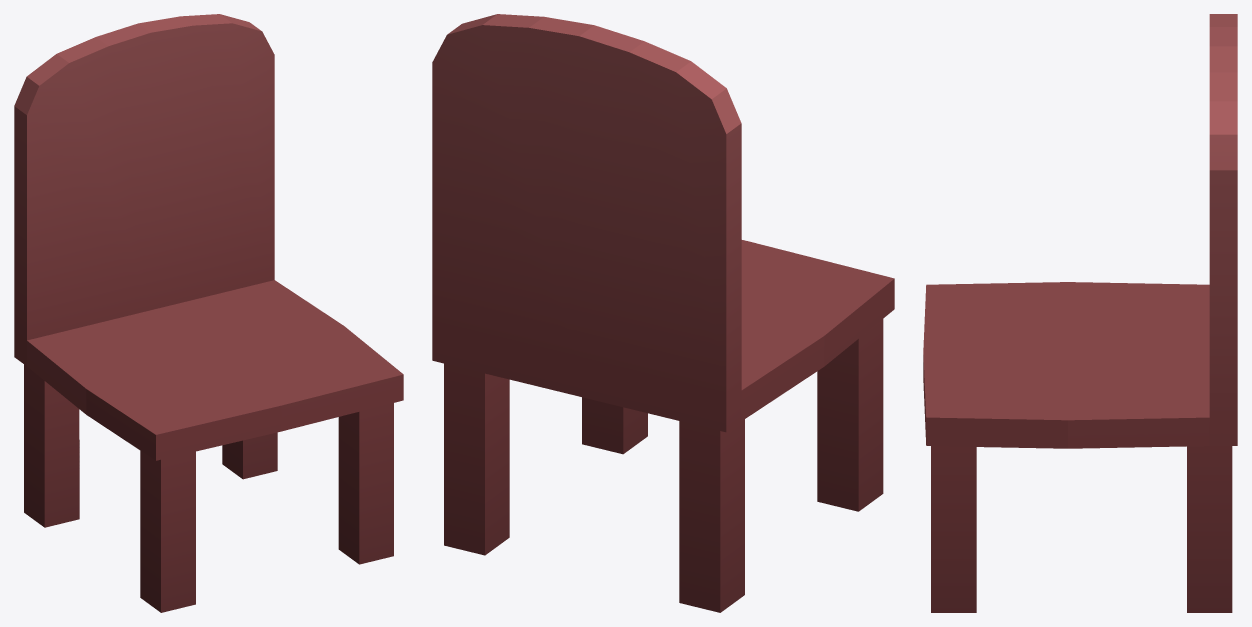
The model's file is BeachChair2.fbx.
The picture shows the model from 3 angles, left to right: view 1: azimuth 30°, elevation 25°; view 2: azimuth 150°, elevation 25°; view 3: azimuth 270°, elevation 25°; orthographic projection. The views are drawn at different scales.
Visible parts, largest first — view 1: Plane.043; view 2: Plane.043; view 3: Plane.043.
Boxes of the visible parts, box(x1,y1,x2,y2) form: Plane.043: box(14, 14, 403, 612); Plane.043: box(432, 14, 894, 612); Plane.043: box(923, 14, 1237, 612).
Bounding box in the file's own units: 93.69 × 159 × 90.
